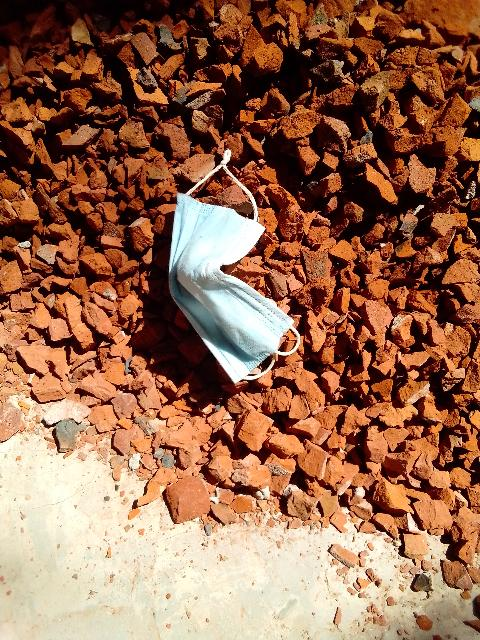mask: (113, 117, 313, 401)
